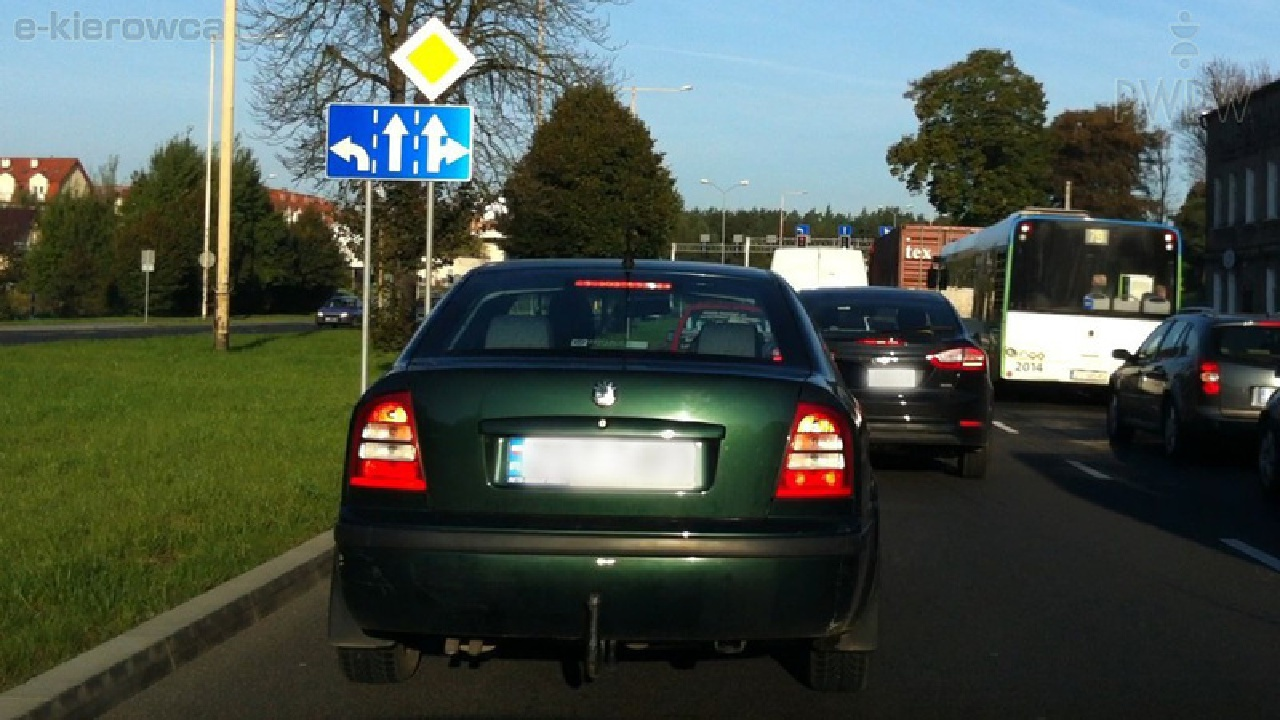D1: (389, 16, 476, 101)
